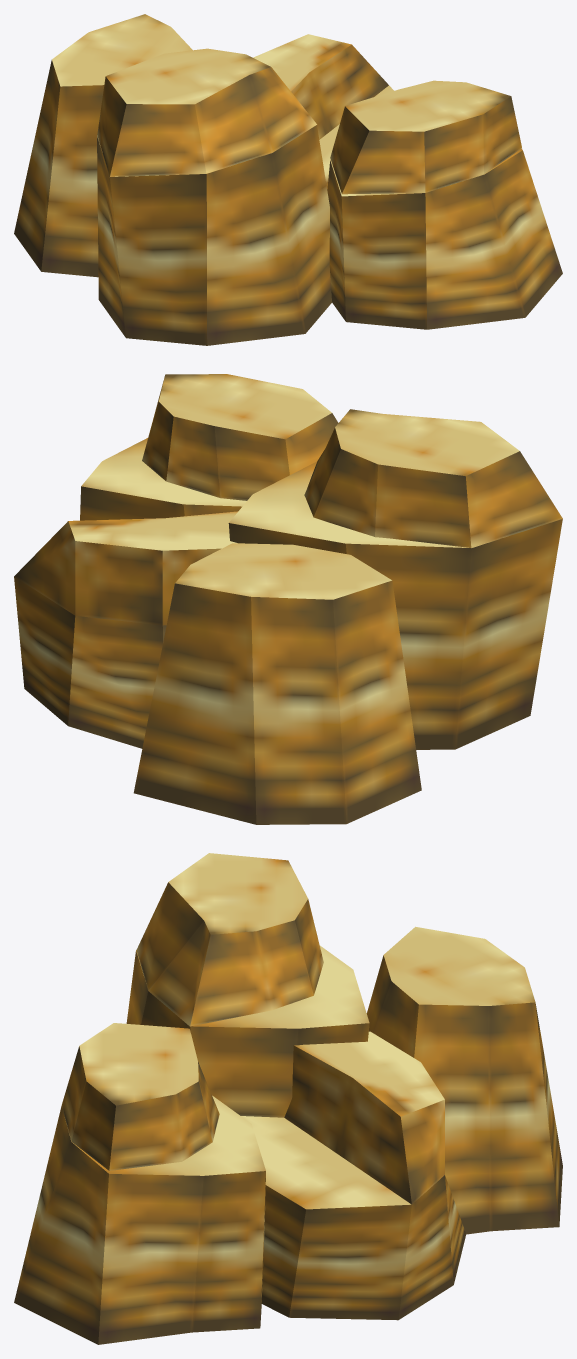
The model's file is Poly_World_Map_Mountain_Canyon_04.obj.
3 renders of one model, top to bottom at view 1: azimuth 30°, elevation 25°; view 2: azimuth 150°, elevation 25°; view 3: azimuth 270°, elevation 25°, orthographic. The views are drawn at different scales.
Parts seen in each view (by area): view 1: Cube.002_Cube.004; view 2: Cube.002_Cube.004; view 3: Cube.002_Cube.004.
Boxes of the visible parts, x1=… form: Cube.002_Cube.004: x1=14, y1=14, x2=562, y2=345; Cube.002_Cube.004: x1=14, y1=374, x2=562, y2=824; Cube.002_Cube.004: x1=14, y1=853, x2=562, y2=1344.
Bounding box in the file's own units: 1.78 × 0.9439 × 1.73.
1 material, 1 textured.
